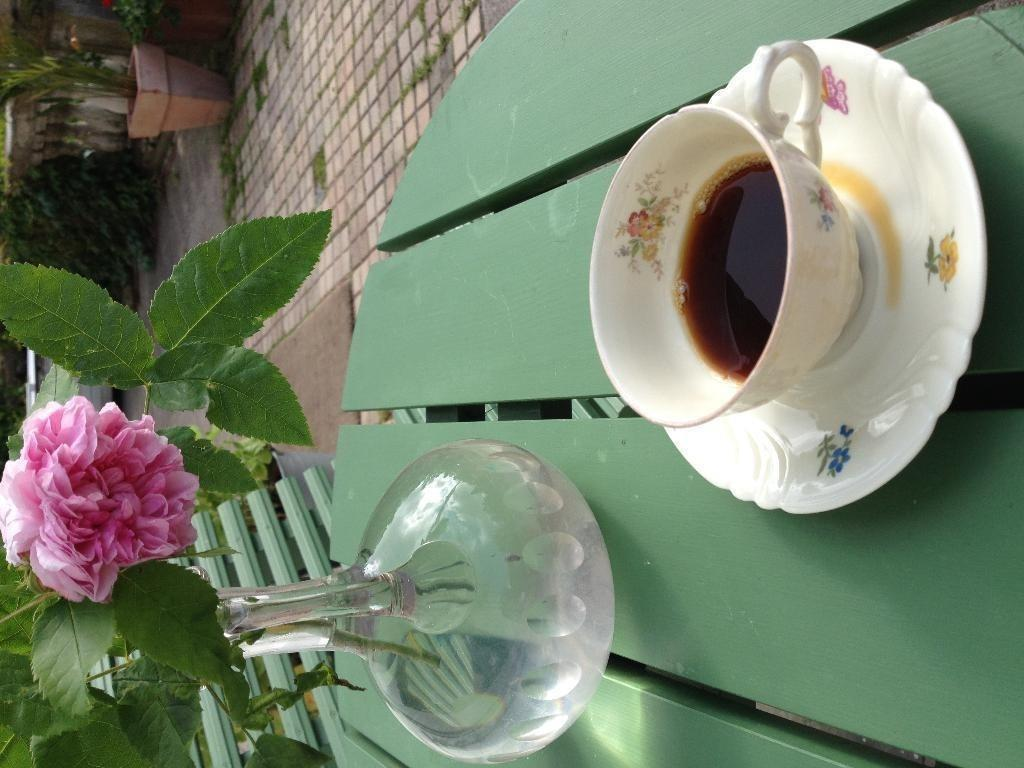cup-handle: (588, 34, 873, 432)
